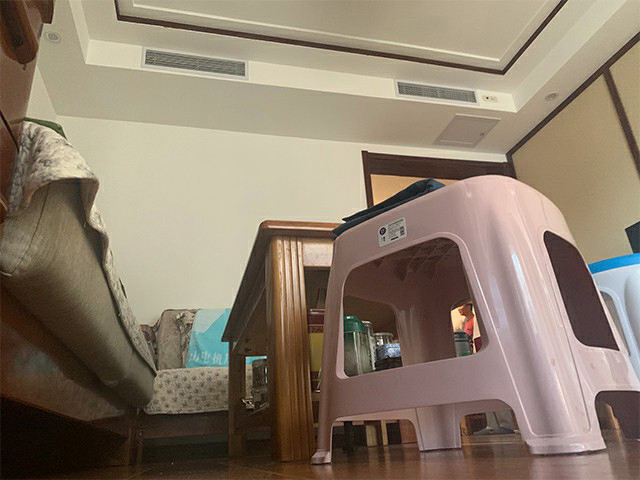sofa: (1, 1, 252, 467)
stool: (310, 173, 640, 467)
table: (222, 219, 342, 465)
